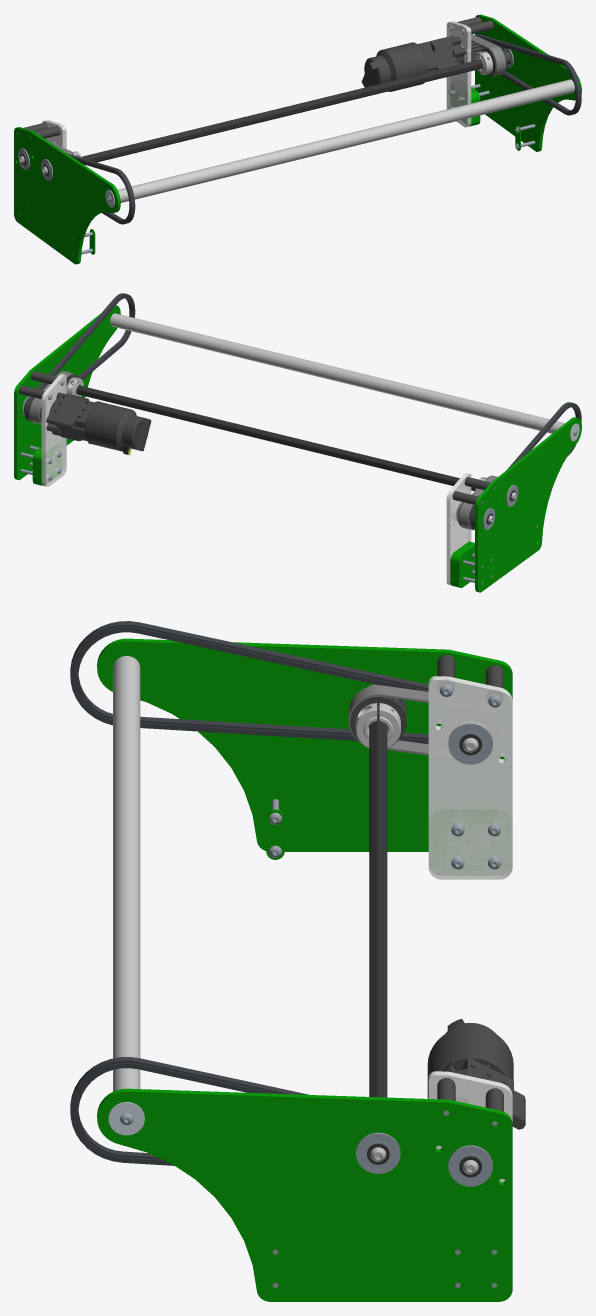
3 renders of one model, top to bottom at view 1: azimuth 30°, elevation 25°; view 2: azimuth 150°, elevation 25°; view 3: azimuth 270°, elevation 25°, orthographic. The views are drawn at different scales.
Parts seen in each view (by area): view 1: Mount Plate (×2), Dead Axle Tube - 29.375in (REV-21-2510), Shaft, Chain Sweep, ~102 links (×2), Simplified Falcon500 V1/V2, motor plate (×2), 50T HTD Belt, motor plate offset, Motor Section, Simplified MP 1/2" Output; view 2: Mount Plate (×2), Dead Axle Tube - 29.375in (REV-21-2510), Shaft, motor plate (×2), Simplified Falcon500 V1/V2, Chain Sweep, ~102 links (×2), motor plate offset (×2), MP Slice (×2), Motor Section, Simplified MP 1/2" Output, 50T HTD Belt; view 3: Mount Plate (×2), motor plate (×2), Chain Sweep, ~102 links (×2), Dead Axle Tube - 29.375in (REV-21-2510), Shaft, .5" Hex ID 1.125" OD Flanged Bearing (217-2734) (×3), Simplified Falcon500 V1/V2, 50T HTD Belt, am-1238a 500Hex Collar Clamp Body, 90313A104_18-8 Stainless Steel Oversized Washer.
Part boxes in pixels (left/top/right/bottom): Mount Plate (×2): left=14, top=14, right=581, bottom=264; Dead Axle Tube - 29.375in (REV-21-2510): left=118, top=79, right=574, bottom=202; Shaft: left=42, top=59, right=482, bottom=175; Chain Sweep, ~102 links (×2): left=67, top=34, right=581, bottom=224; Simplified Falcon500 V1/V2: left=361, top=42, right=427, bottom=91; motor plate (×2): left=42, top=21, right=471, bottom=148; 50T HTD Belt: left=471, top=34, right=505, bottom=76; motor plate offset: left=451, top=83, right=480, bottom=126; Motor Section: left=417, top=41, right=440, bottom=71; Simplified MP 1/2" Output: left=446, top=35, right=466, bottom=64; Mount Plate (×2): left=14, top=305, right=581, bottom=592; Dead Axle Tube - 29.375in (REV-21-2510): left=110, top=313, right=564, bottom=433; Shaft: left=76, top=385, right=516, bottom=501; motor plate (×2): left=41, top=374, right=471, bottom=585; Simplified Falcon500 V1/V2: left=85, top=402, right=151, bottom=455; Chain Sweep, ~102 links (×2): left=24, top=293, right=581, bottom=529; motor plate offset (×2): left=32, top=443, right=474, bottom=587; MP Slice (×2): left=54, top=395, right=89, bottom=441; Motor Section: left=70, top=400, right=100, bottom=443; Simplified MP 1/2" Output: left=46, top=392, right=71, bottom=437; 50T HTD Belt: left=459, top=475, right=497, bottom=530; Mount Plate (×2): left=97, top=638, right=512, bottom=1301; motor plate (×2): left=428, top=676, right=512, bottom=1182; Chain Sweep, ~102 links (×2): left=70, top=621, right=428, bottom=1165; Dead Axle Tube - 29.375in (REV-21-2510): left=113, top=656, right=140, bottom=1091; Shaft: left=367, top=714, right=389, bottom=1164; .5" Hex ID 1.125" OD Flanged Bearing (217-2734) (×3): left=356, top=723, right=492, bottom=1186; Simplified Falcon500 V1/V2: left=427, top=1018, right=513, bottom=1098; 50T HTD Belt: left=348, top=685, right=428, bottom=755; am-1238a 500Hex Collar Clamp Body: left=355, top=703, right=400, bottom=748; 90313A104_18-8 Stainless Steel Oversized Washer: left=108, top=1102, right=144, bottom=1135.
Size of the model in its own units: 0.7582 by 0.1802 by 0.317.
